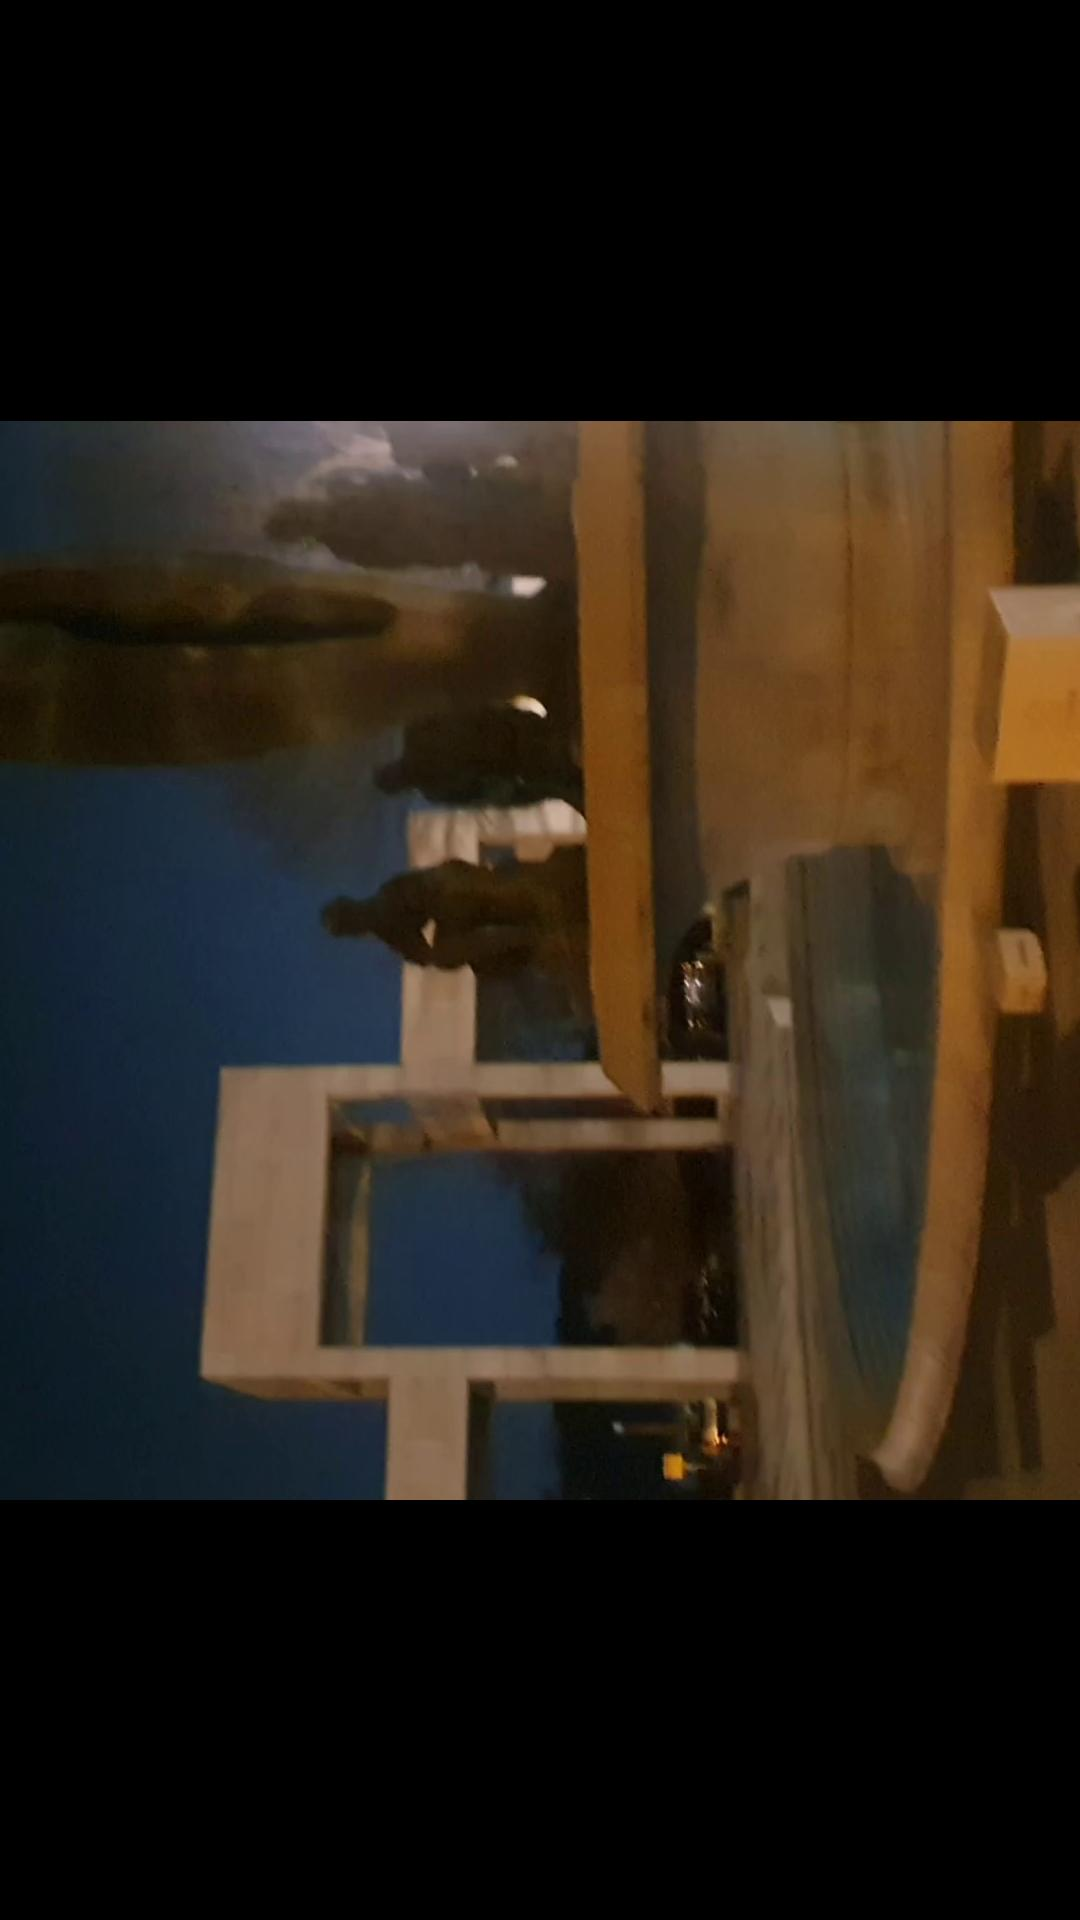Box: (955, 580, 1080, 794), (975, 918, 1050, 1027)
